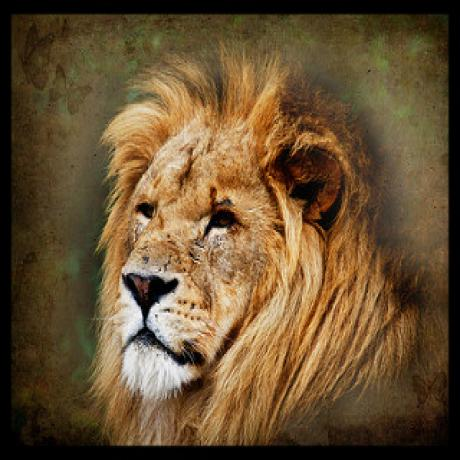Lion: (91, 52, 440, 445)
